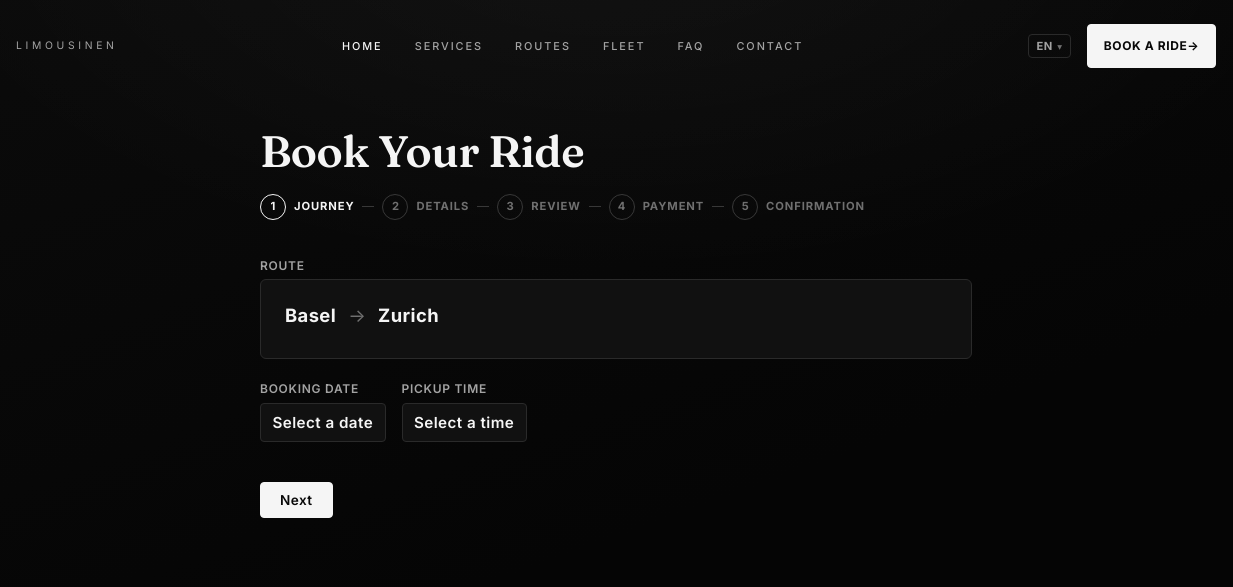
Scenario: BookingPage › blocks advancing past step 1 without a route, date, and time
The image size is (1233, 587).
expect the element named "Route" is shown: met, box [260,279,972,359]
Click the button "Next": [296, 500] box [260,482,332,518]
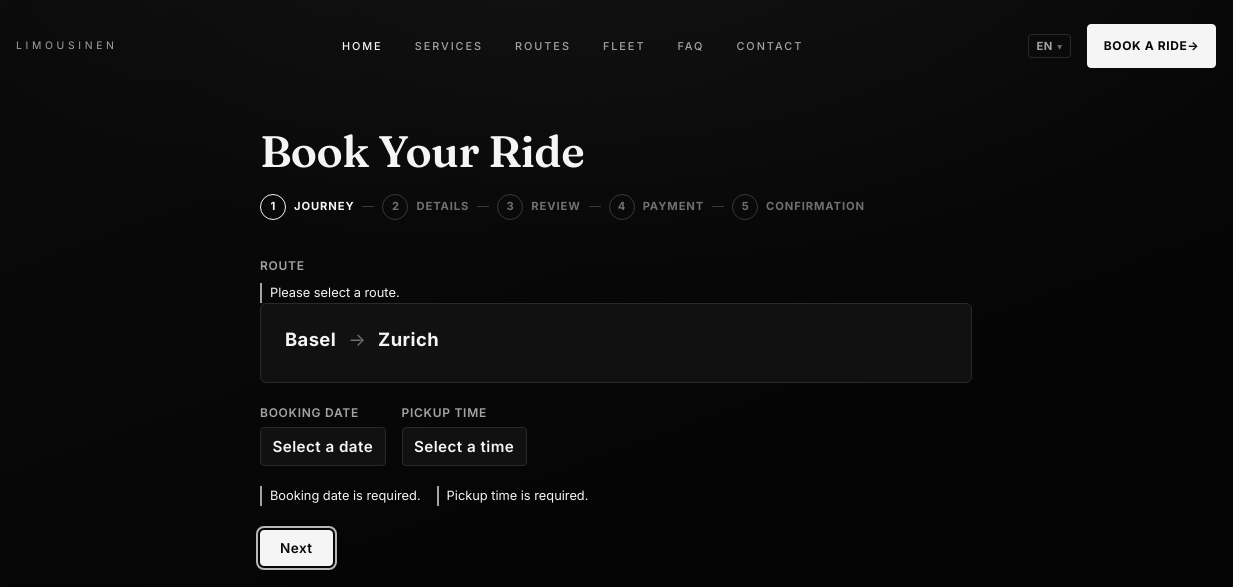
expect the text "Please select a route." is shown: met, box [260,283,972,303]
expect the text "Booking date is required." is shown: met, box [260,486,421,506]
expect the text "Pickup time is required." is shown: met, box [437,486,588,506]
